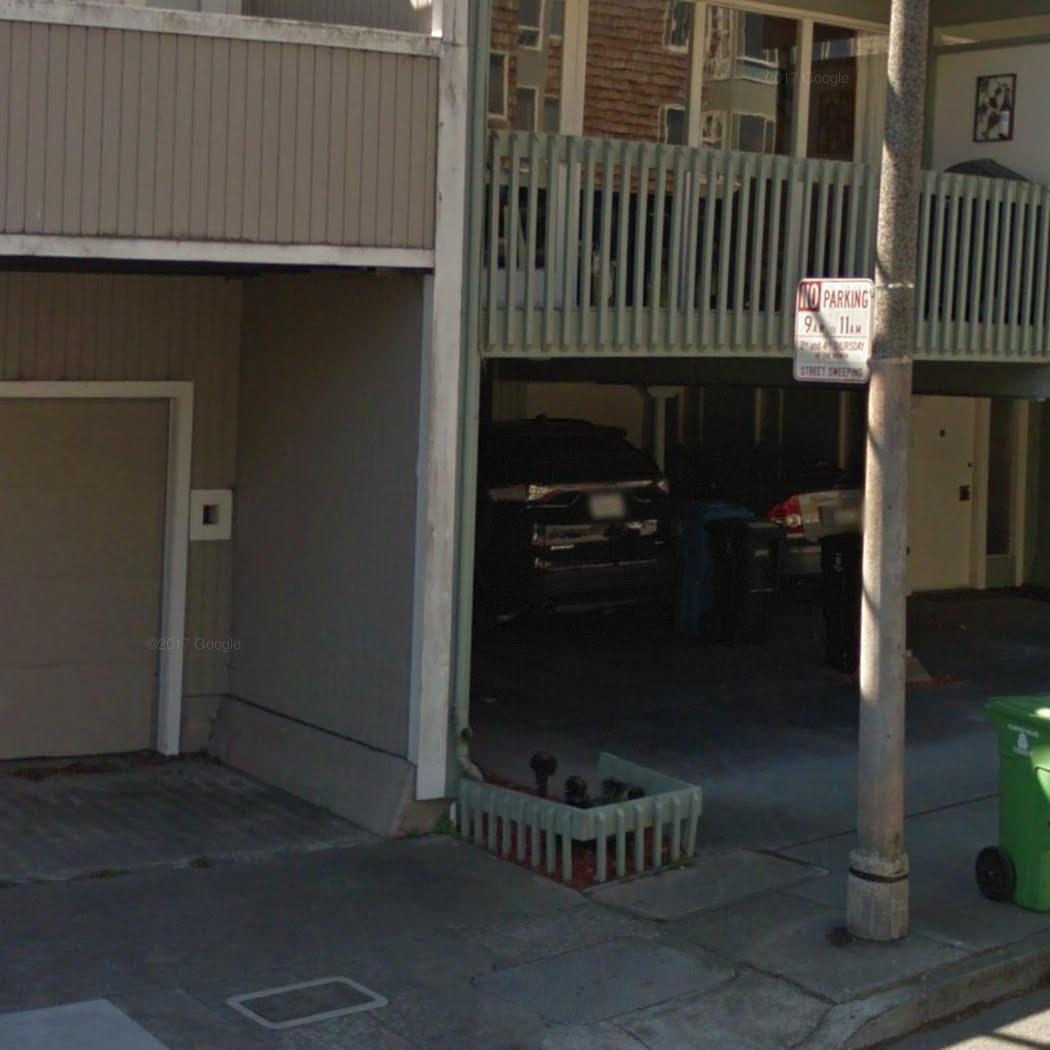No Parking: (791, 275, 875, 386)
